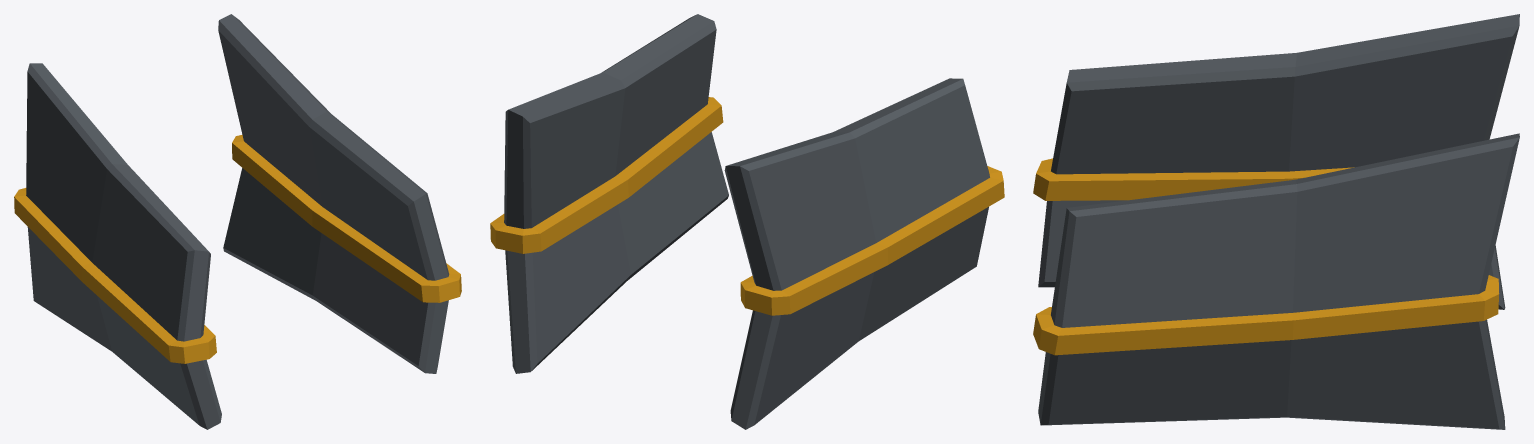
Rendered from Personal_Vehicle_04_Thruster_Frame_Yellow.fbx.
3 renders of one model, left to right at view 1: azimuth 30°, elevation 25°; view 2: azimuth 150°, elevation 25°; view 3: azimuth 270°, elevation 25°, orthographic. The views are drawn at different scales.
Visible parts, largest first — view 1: Personal_Vehicle_04_Thruster_Frame_Yellow; view 2: Personal_Vehicle_04_Thruster_Frame_Yellow; view 3: Personal_Vehicle_04_Thruster_Frame_Yellow.
Boxes of the visible parts, x1,y1,x2,y2 form: Personal_Vehicle_04_Thruster_Frame_Yellow: (14,14,461,429); Personal_Vehicle_04_Thruster_Frame_Yellow: (490,14,1004,429); Personal_Vehicle_04_Thruster_Frame_Yellow: (1033,14,1519,429).
Size of the model in its own units: 82.68 by 63.25 by 95.16.
1 material, 1 textured.
